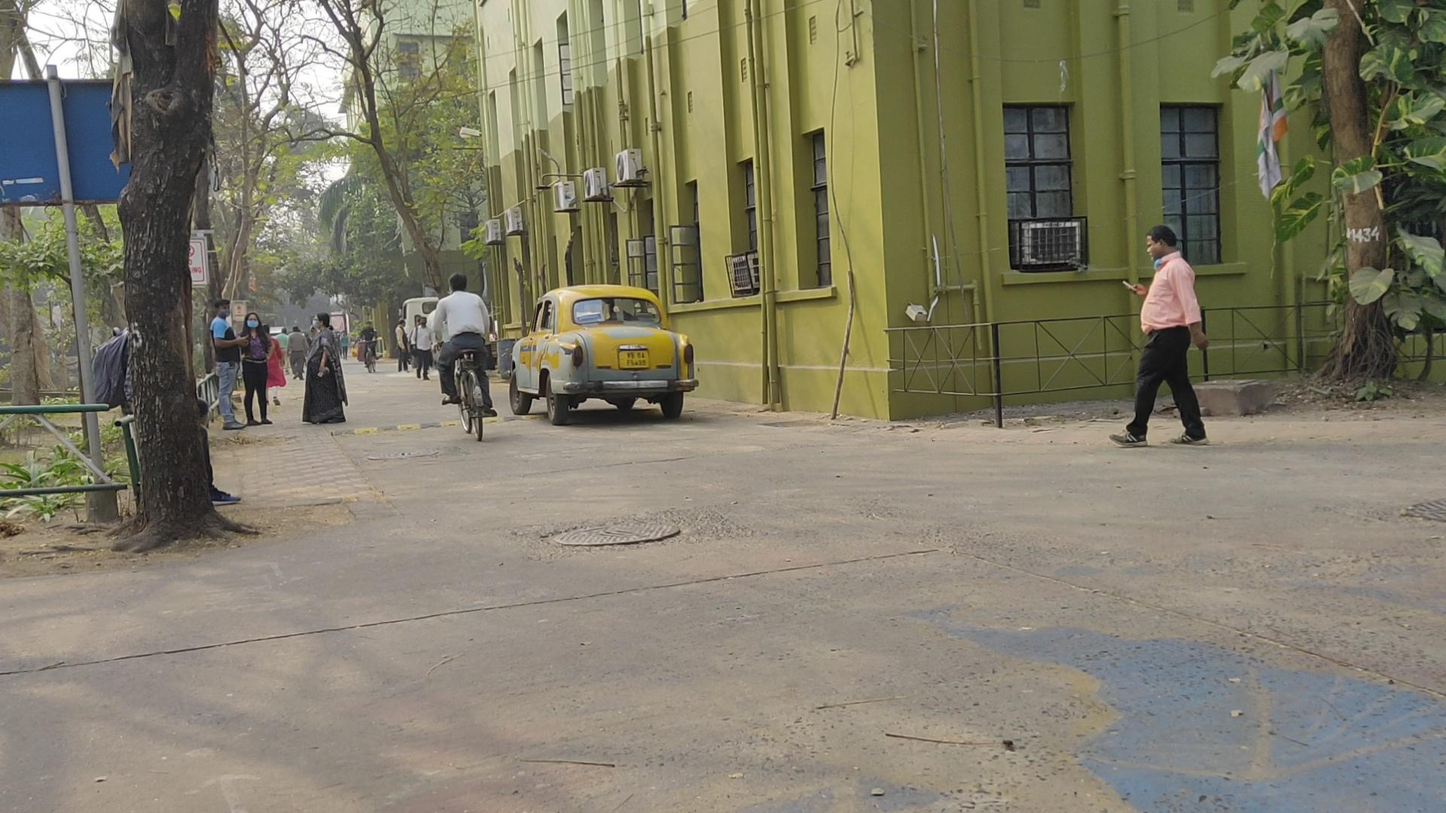bike: (432, 273, 497, 443), (361, 321, 377, 373)
car: (509, 282, 697, 425)
